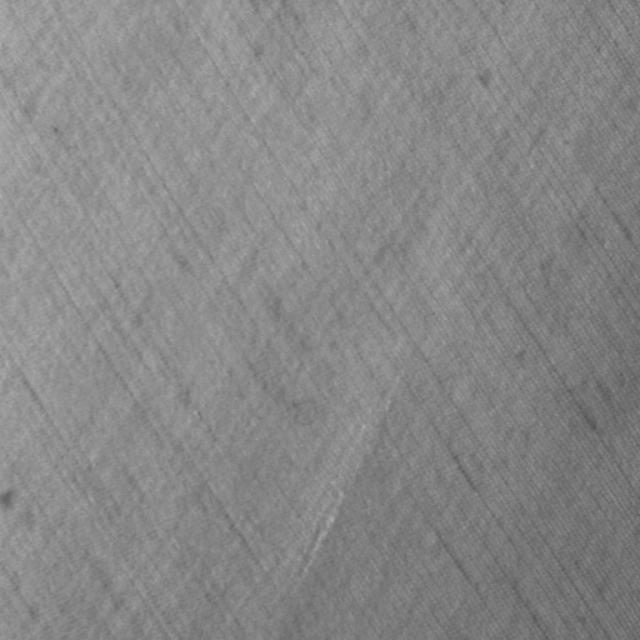thread error: (289, 379, 397, 590)
